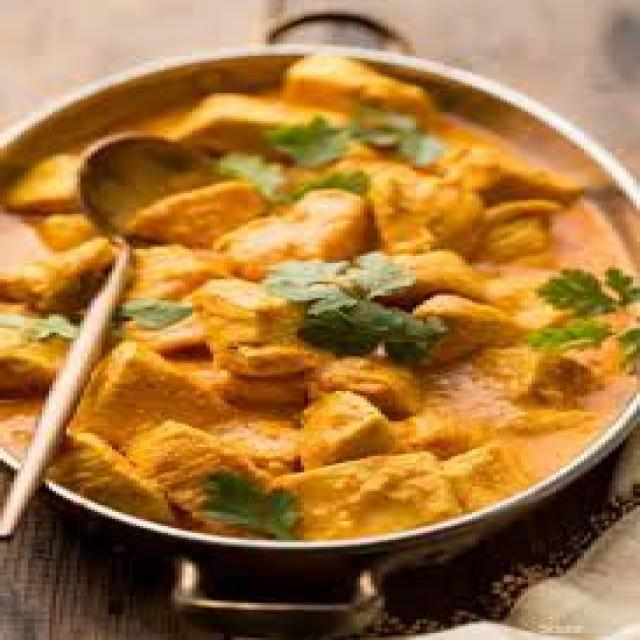Butter Chicken: (0, 59, 637, 546)
